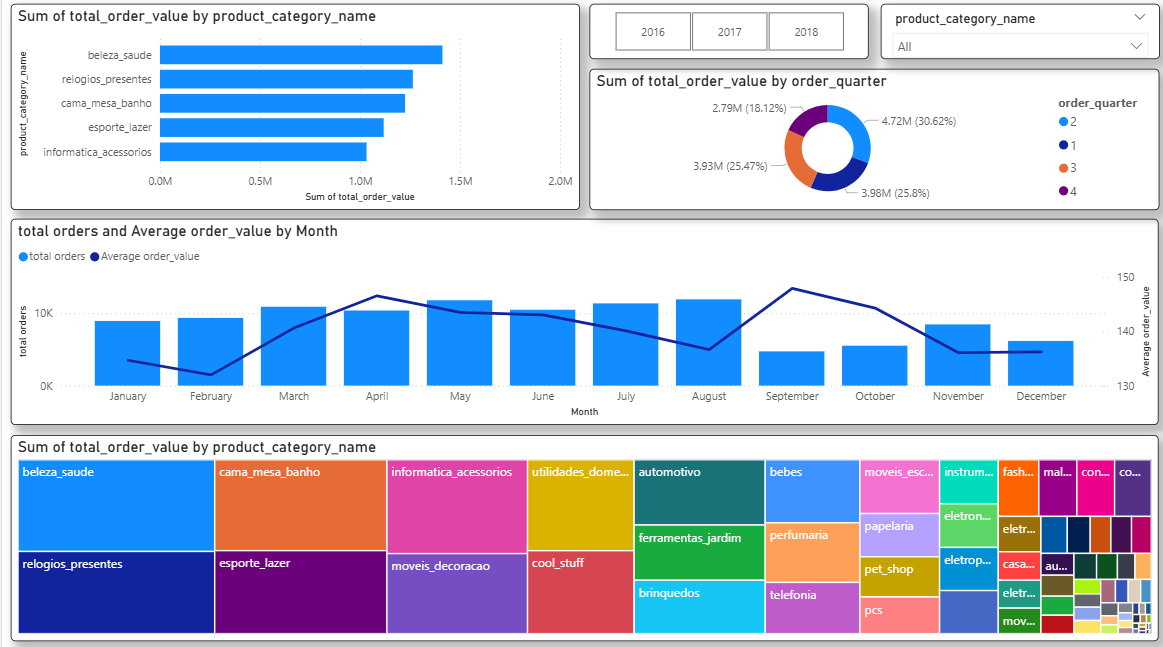

This screenshot's page, from the dashboard's own definition file:
{"tool":"powerbi","page":{"name":"Page 2","canvas":[1280,720],"ordinal":1},"visuals":[{"type":"clusteredBarChart","fields":{"Category":["master_orders.product_category_name"],"Y":["Sum(master_orders.total_order_value)"]},"box":[10,10,625,226],"z":0},{"type":"lineClusteredColumnComboChart","fields":{"Category":["master_orders.order_purchase_timestamp.Variation.Date Hierarchy.Year","master_orders.order_purchase_timestamp.Variation.Date Hierarchy.Month"],"Y":["CountNonNull(master_orders.order_id)"],"Y2":["Avg(master_orders.total_order_value)"]},"box":[10,246,1260,226],"z":1000},{"type":"donutChart","fields":{"Category":["master_orders.order_quarter"],"Y":["Sum(master_orders.total_order_value)"]},"box":[645,81,625.7,155],"z":2000},{"type":"treemap","fields":{"Group":["master_orders.product_category_name"],"Values":["Sum(master_orders.total_order_value)"]},"box":[10,483,1260,226],"z":3000},{"type":"slicer","fields":{"Values":["master_orders.order_delivered_carrier_date.Variation.Date Hierarchy.Year"]},"box":[645,10,306,61],"z":4000},{"type":"slicer","fields":{"Values":["master_orders.product_category_name"]},"box":[965,10,306,61],"z":5000}]}

Visuals, with their boxes in screenshot pixels (x1, y1, x2, y2), scaled from the page's 1280x720 canvas onto the 1163x647 screenshot:
clusteredBarChart - master_orders.product_category_name x Sum(master_orders.total_order_value): Rect(9, 9, 577, 212)
lineClusteredColumnComboChart - master_orders.order_purchase_timestamp.Variation.Date Hierarchy.Year x master_orders.order_purchase_timestamp.Variation.Date Hierarchy.Month: Rect(9, 221, 1154, 424)
donutChart - master_orders.order_quarter x Sum(master_orders.total_order_value): Rect(586, 73, 1155, 212)
treemap - master_orders.product_category_name x Sum(master_orders.total_order_value): Rect(9, 434, 1154, 637)
slicer - master_orders.order_delivered_carrier_date.Variation.Date Hierarchy.Year: Rect(586, 9, 864, 64)
slicer - master_orders.product_category_name: Rect(877, 9, 1155, 64)
